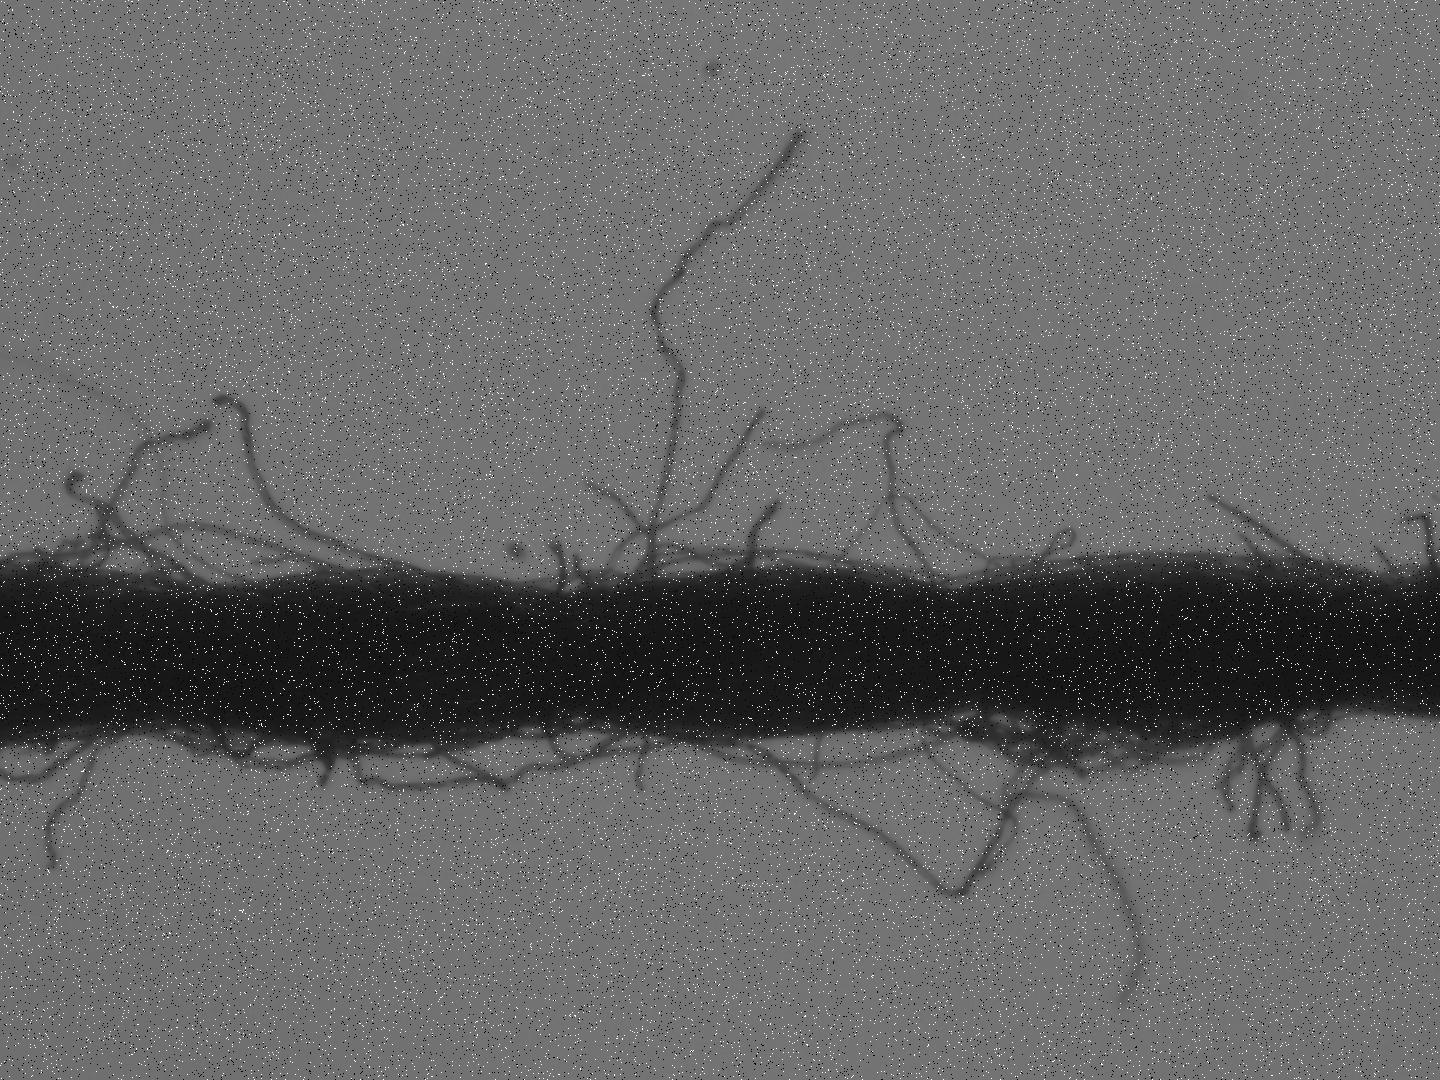loop_fiber: (712, 723, 1084, 900), (739, 414, 938, 581), (10, 525, 384, 598), (353, 723, 692, 793), (703, 709, 988, 771), (159, 728, 403, 768), (1212, 489, 1319, 566), (1039, 723, 1149, 774), (1, 729, 104, 783), (1117, 717, 1222, 768), (931, 717, 1056, 749), (1115, 718, 1263, 744), (542, 725, 636, 765), (983, 717, 1058, 765), (503, 716, 596, 743), (209, 727, 278, 762), (983, 554, 1054, 587), (184, 728, 232, 760), (1287, 707, 1331, 741)
protruding_fiber: (646, 130, 808, 581), (206, 390, 468, 584), (602, 405, 770, 584), (44, 729, 126, 870), (1248, 731, 1288, 838), (738, 493, 788, 574), (1287, 715, 1319, 835), (635, 731, 652, 798)
